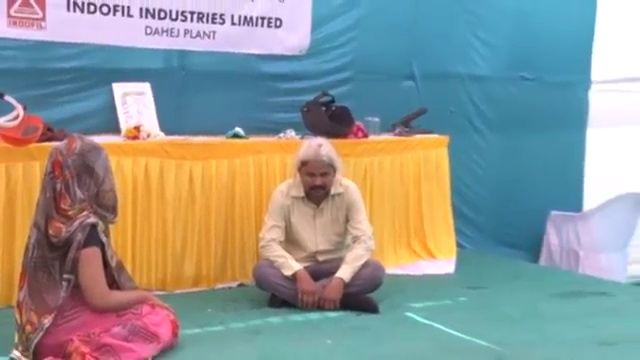helmet_off: (40, 133, 117, 220), (298, 140, 337, 199)
person: (8, 134, 182, 360), (250, 135, 386, 315)
